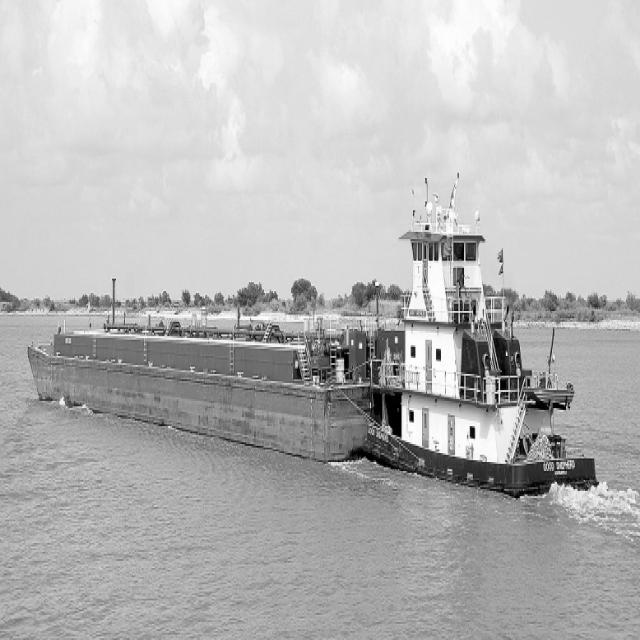tugboat: (363, 192, 603, 510)
